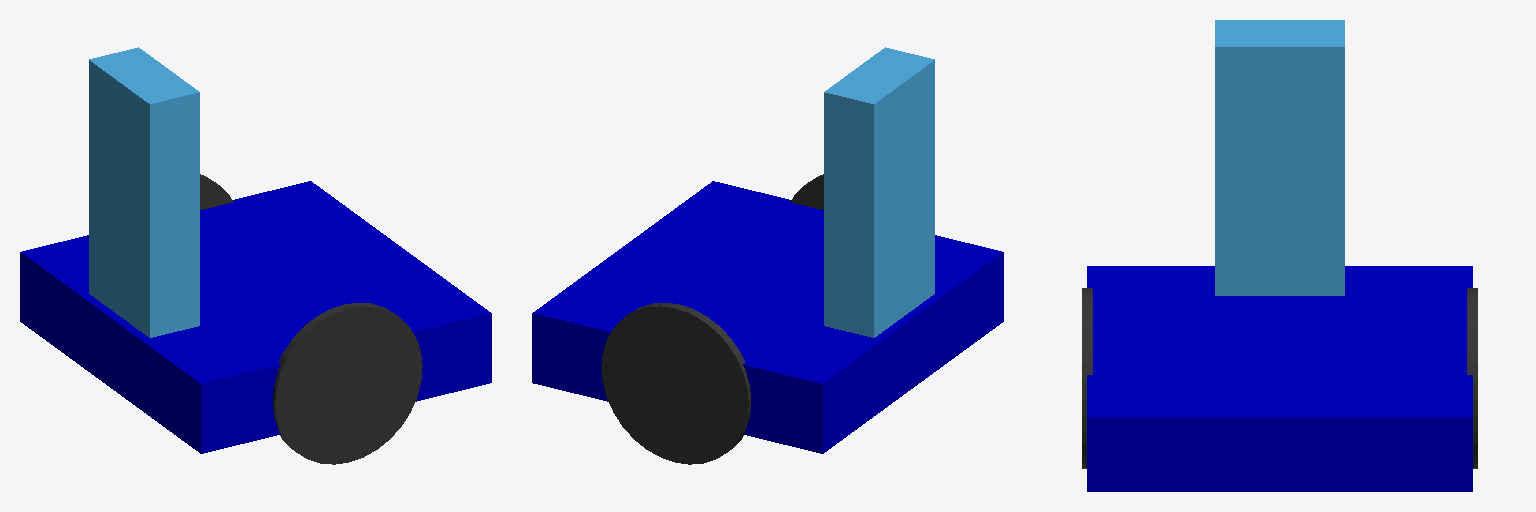
robot.urdf — multipleshapes:
<?xml version="1.0"?>
<robot name="multipleshapes">
	<link name="base_link">
		<visual>
			<geometry>
				<box size=".26 .28 .06"/>
			</geometry>
			<material name="blue">
				<color rgba="0 0 .8 1"/>
			</material>
		</visual>
	</link>

	<link name="stand_link">
		<visual>
			<geometry>
				<box size="0.045 .095 .23"/>
			</geometry>
			<origin rpy="0 0 0" xyz="-0.10 0 0.115"/>
		</visual>
	</link>

	<link name="left_motor">
		<visual>
			<geometry>
				 <cylinder length="0.008" radius="0.066"/>
			</geometry>
			<origin xyz="0 -0.14 0" rpy="1.57 0 0"/>
			<material name="motor">
				<color rgba="0.25 0.25 0.25 1"/>
			</material>
		</visual>
	</link>

	<link name="right_motor">
		<visual>
			<geometry>
				 <cylinder length="0.008" radius="0.066"/>
			</geometry>
			<origin xyz="0 0.14 0" rpy="1.57 0 0"/>
			<material name="motor">
				<color rgba="0.25 0.25 0.25 1"/>
			</material>
		</visual>
	</link>

	<joint name="base_to_stand" type="fixed">
		<parent link="base_link"/>
		<child link="stand_link"/>
	</joint>

	<joint name="base_to_left_motor" type="fixed">
		<parent link="base_link"/>
		<child link="left_motor"/>
	</joint>

	<joint name="base_to_right_motor" type="fixed">
		<parent link="base_link"/>
		<child link="right_motor"/>
	</joint>

</robot>

--- What the picture shows (computed from the rendered views, not written in the file) ---
3 views of the same robot in one strip: view 1: azimuth 30°, elevation 25°; view 2: azimuth 150°, elevation 25°; view 3: azimuth 270°, elevation 25° (orthographic).
Model multipleshapes with 4 links and 3 joints (3 fixed), rooted at base_link, posed all joints at 0.
Visible links, largest first — view 1: base_link, stand_link, left_motor, right_motor; view 2: base_link, stand_link, right_motor, left_motor; view 3: base_link, stand_link, left_motor, right_motor.
Link boxes in pixels (x1=…): base_link: x1=20, y1=181, x2=491, y2=453; stand_link: x1=89, y1=47, x2=199, y2=337; left_motor: x1=273, y1=303, x2=422, y2=464; right_motor: x1=200, y1=174, x2=232, y2=209; base_link: x1=532, y1=181, x2=1003, y2=453; stand_link: x1=824, y1=47, x2=934, y2=337; right_motor: x1=601, y1=303, x2=750, y2=464; left_motor: x1=791, y1=174, x2=823, y2=209; base_link: x1=1087, y1=266, x2=1472, y2=491; stand_link: x1=1215, y1=20, x2=1344, y2=295; left_motor: x1=1082, y1=288, x2=1092, y2=468; right_motor: x1=1467, y1=288, x2=1477, y2=468.
Size in the robot's own frame: 0.26 by 0.2881 by 0.296 metres.
Geometry: primitives only (box / cylinder / sphere), no mesh files.